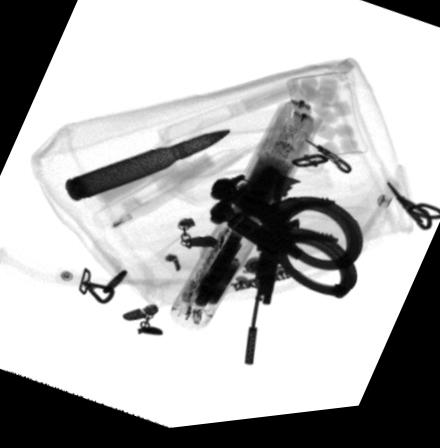Baton: (168, 107, 327, 334)
Bullet: (66, 133, 232, 204)
Gun: (245, 182, 303, 371)
HandCuffs: (209, 181, 363, 307)
